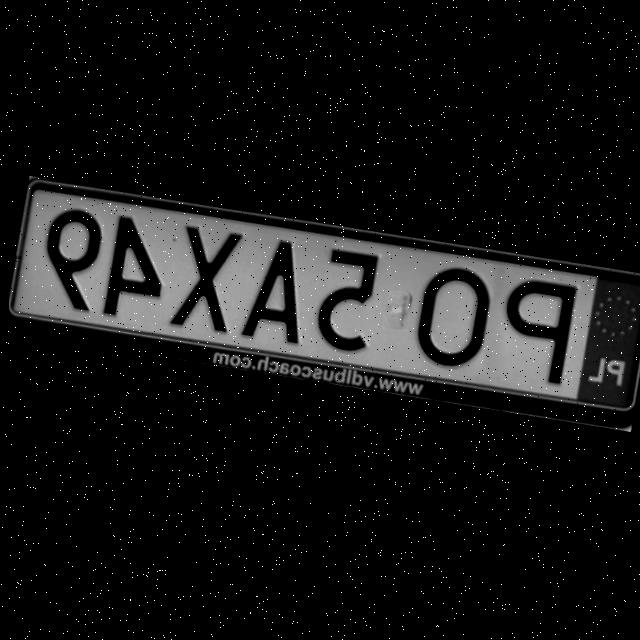license-plates: (9, 189, 640, 410)
